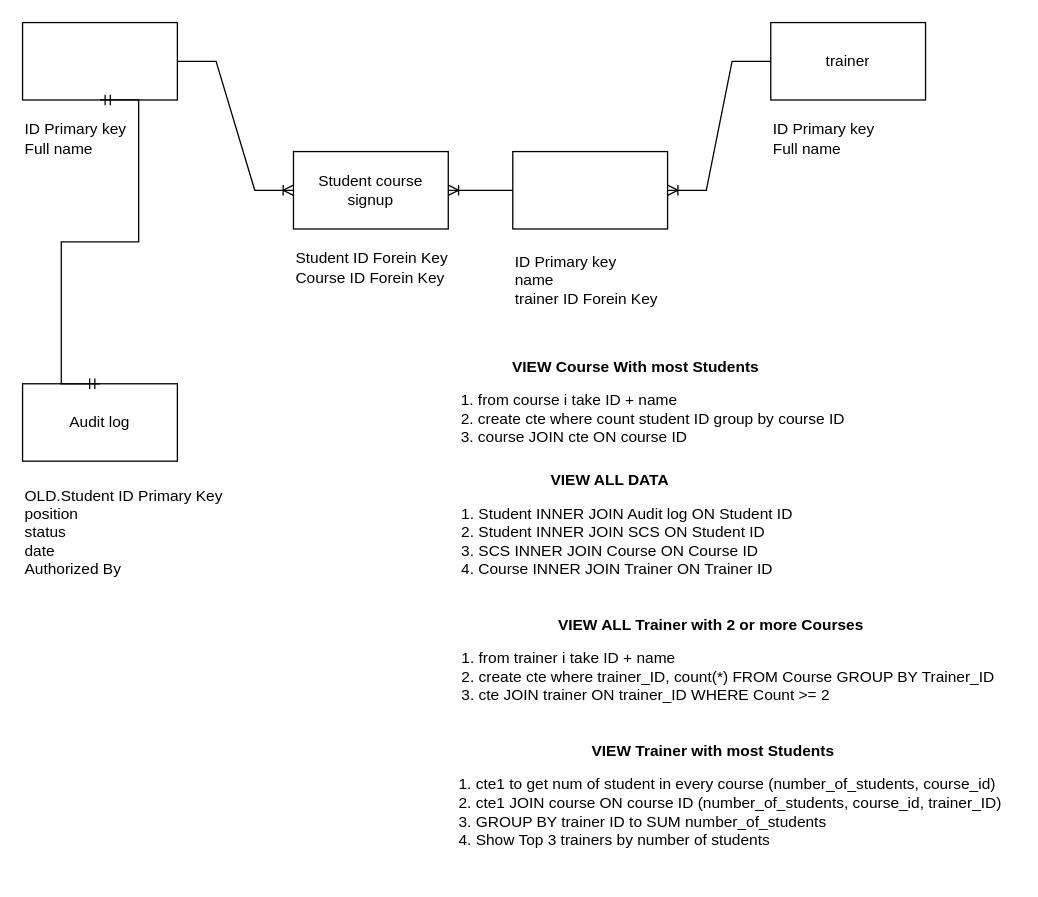
Image size: 1038x897. Some labels were removed from this diagram. Here are the shapes that lost their labels. From the top down, the centre of each, then its label:
At point 99,60: "student".
At point 589,189: "course".
